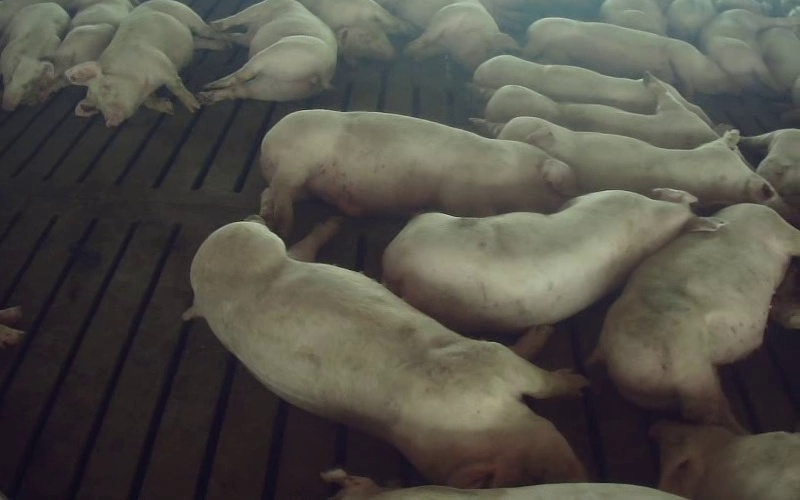pig: (383, 189, 723, 332), (596, 204, 799, 427), (260, 111, 568, 236), (498, 117, 779, 207), (66, 0, 224, 126), (523, 18, 734, 96), (485, 85, 718, 148), (700, 9, 799, 88), (404, 2, 517, 70), (0, 3, 69, 110), (300, 0, 410, 61)
